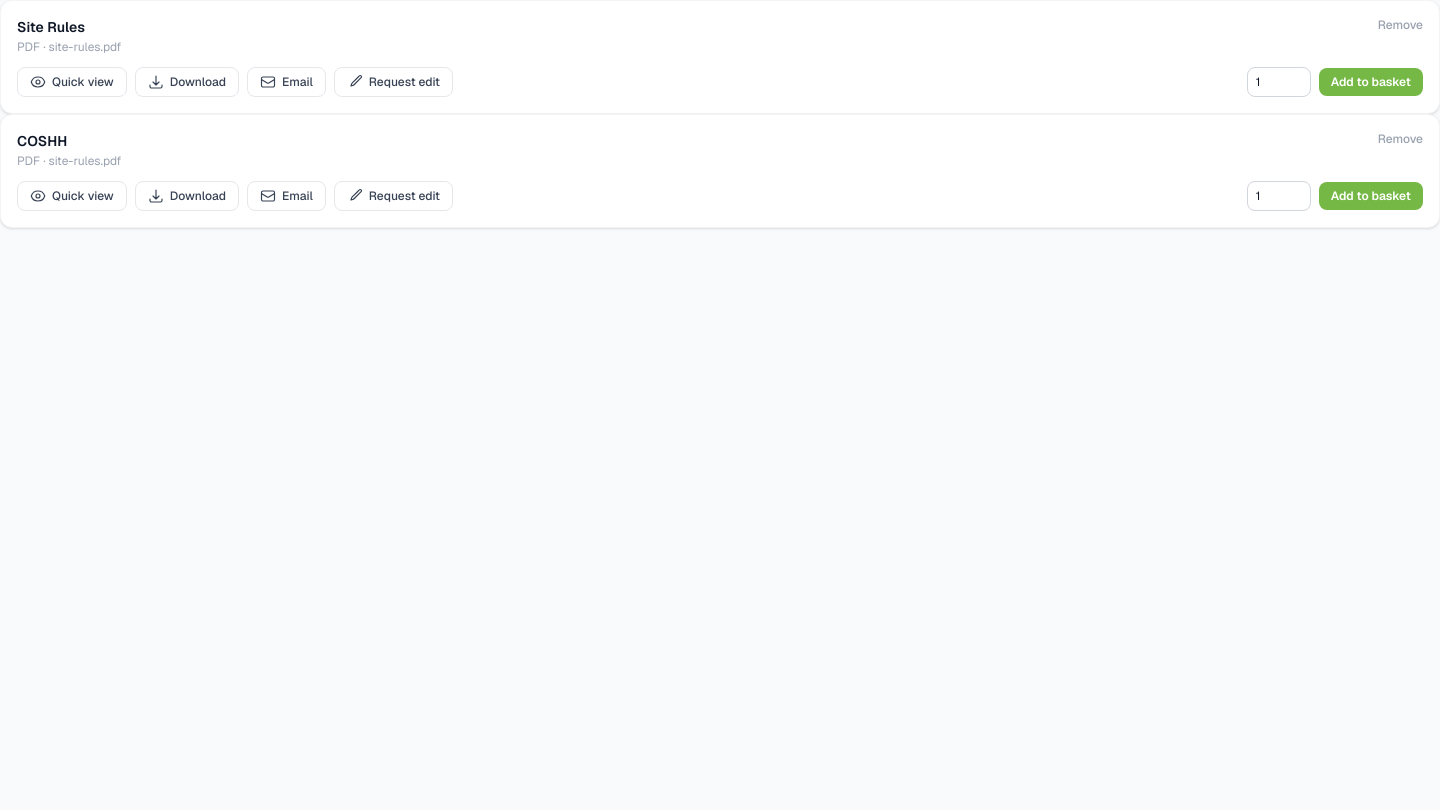
Test: confirming a print order gives unmistakable feedback › the success state names what was sent
Replace the text in the 1st number field with "3". click: (1279, 82)
box: x1=1247 y1=67 x2=1311 y2=97
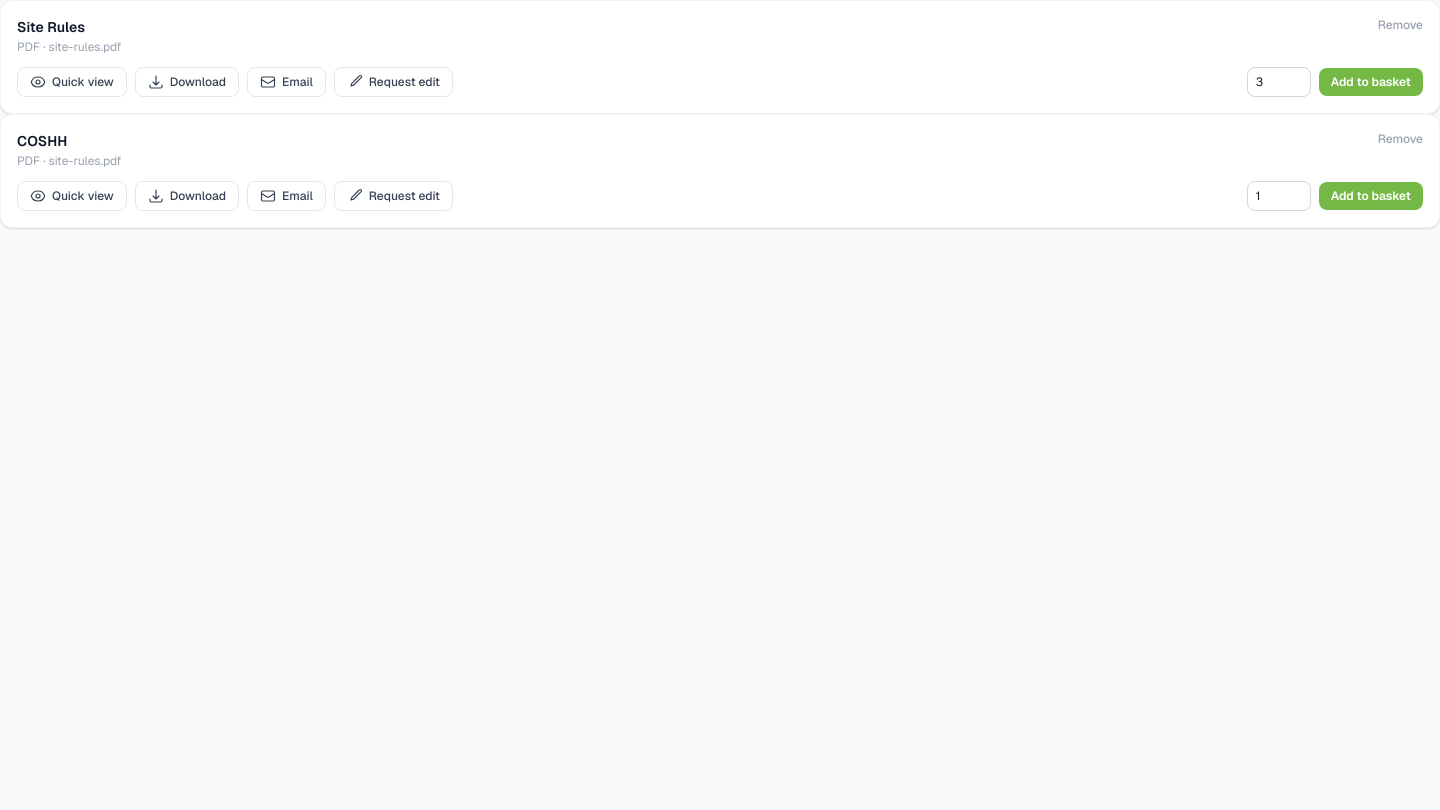
Click the 1st button "Add to basket". click: click(1371, 82)
box: x1=1319 y1=68 x2=1423 y2=96
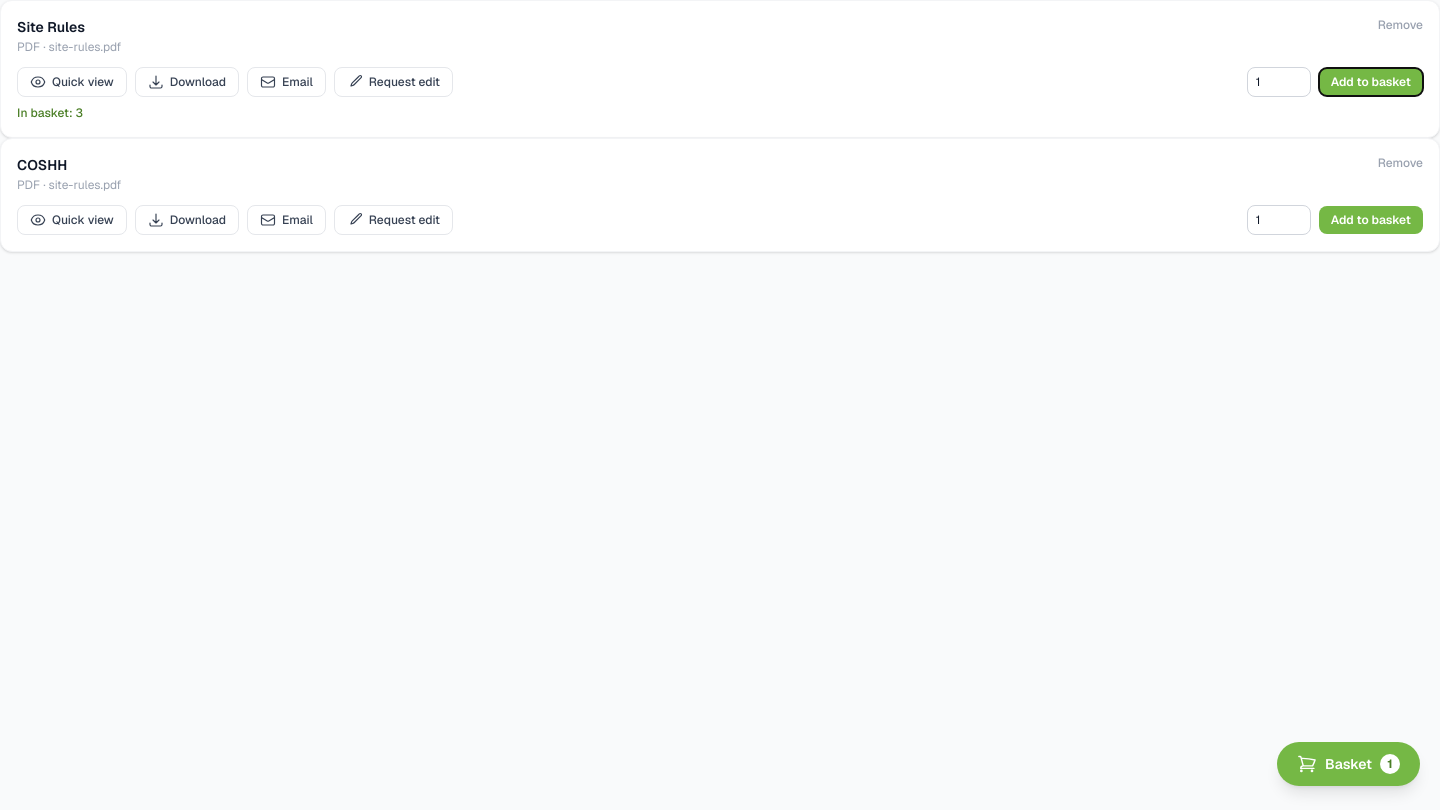
Click the 2nd button "Add to basket". click: click(1371, 220)
box: x1=1319 y1=206 x2=1423 y2=234
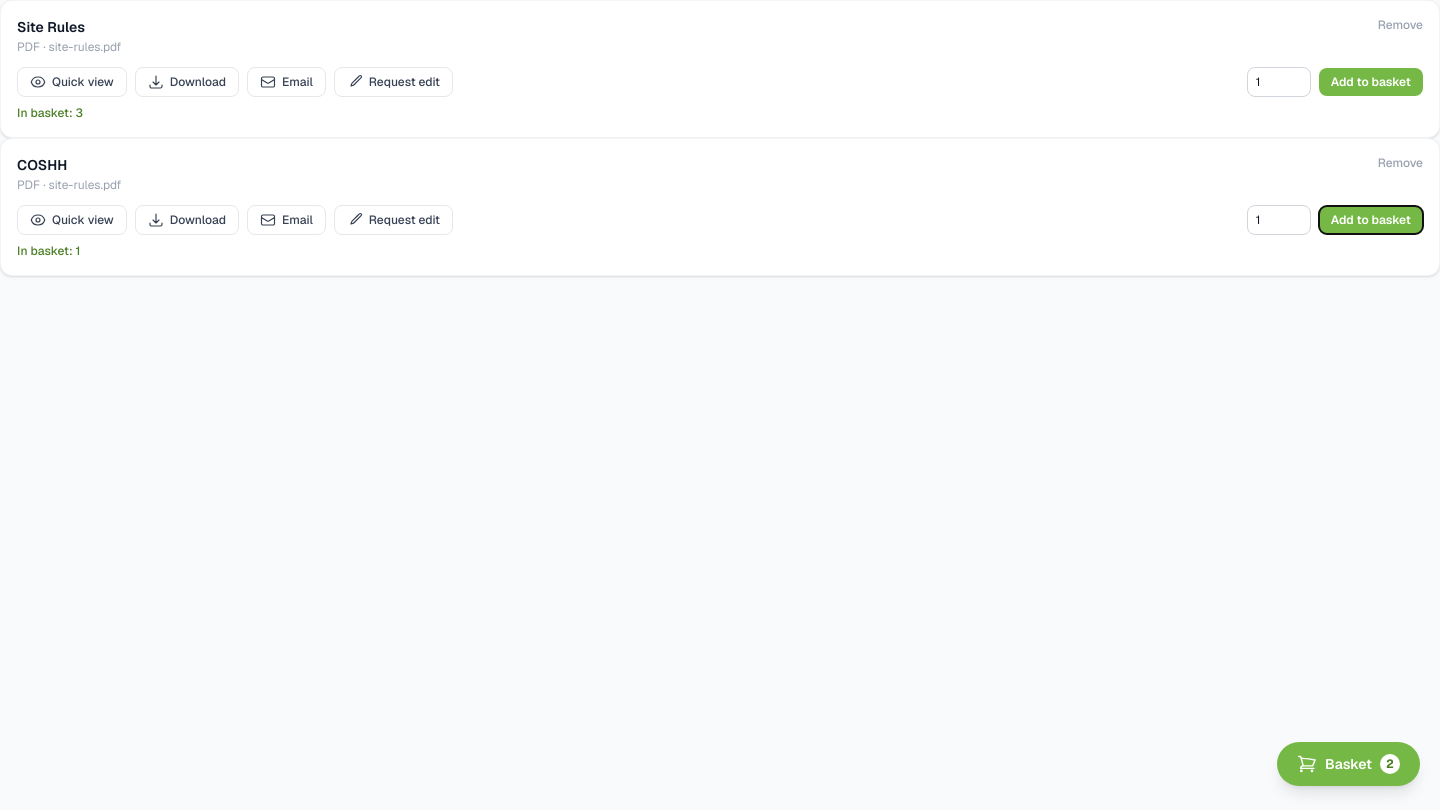
Click the button with aria-label "print basket, 2 documents". click: click(1348, 764)
box: x1=1277 y1=742 x2=1420 y2=786
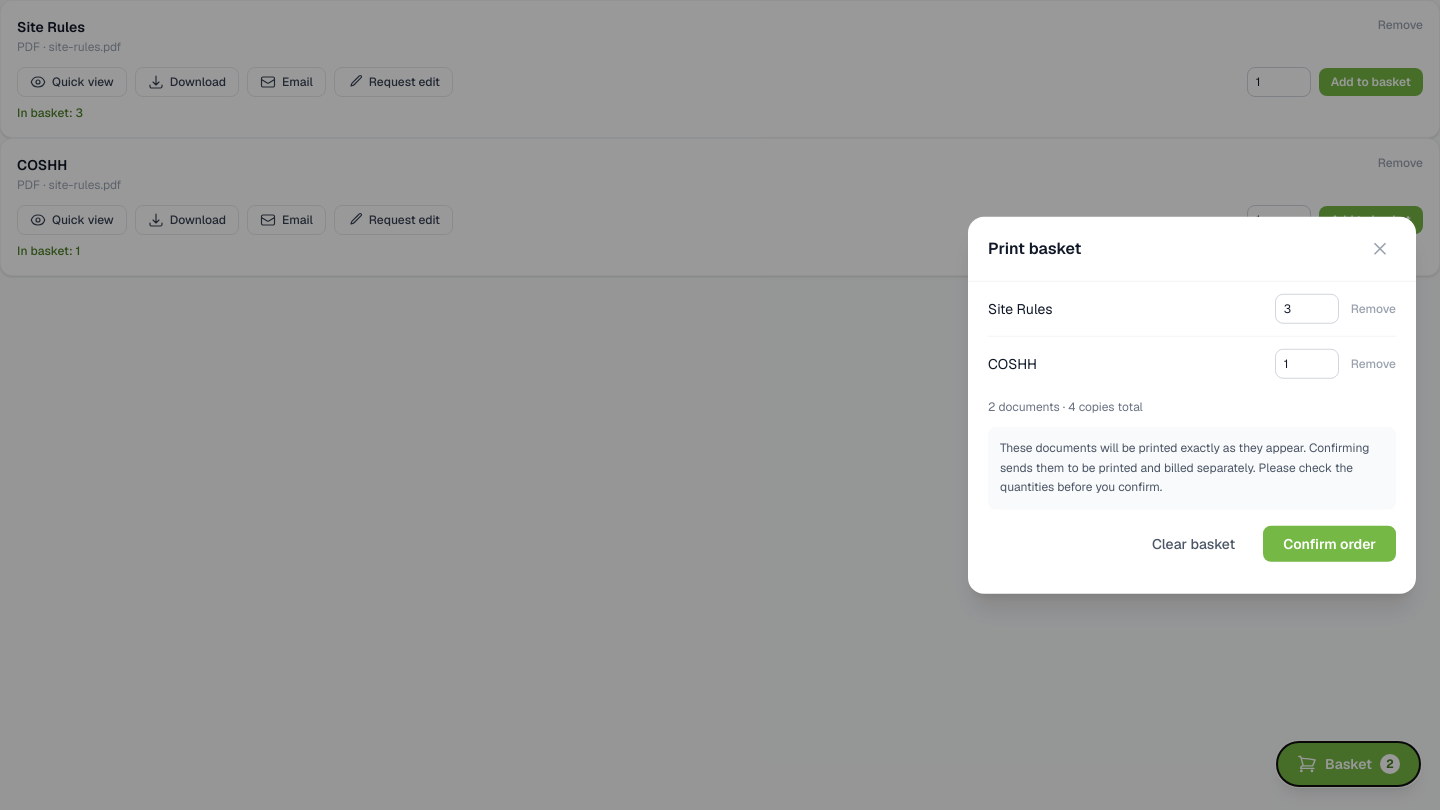
Click the button "Confirm order". click: click(1330, 543)
box: x1=1263 y1=525 x2=1396 y2=561
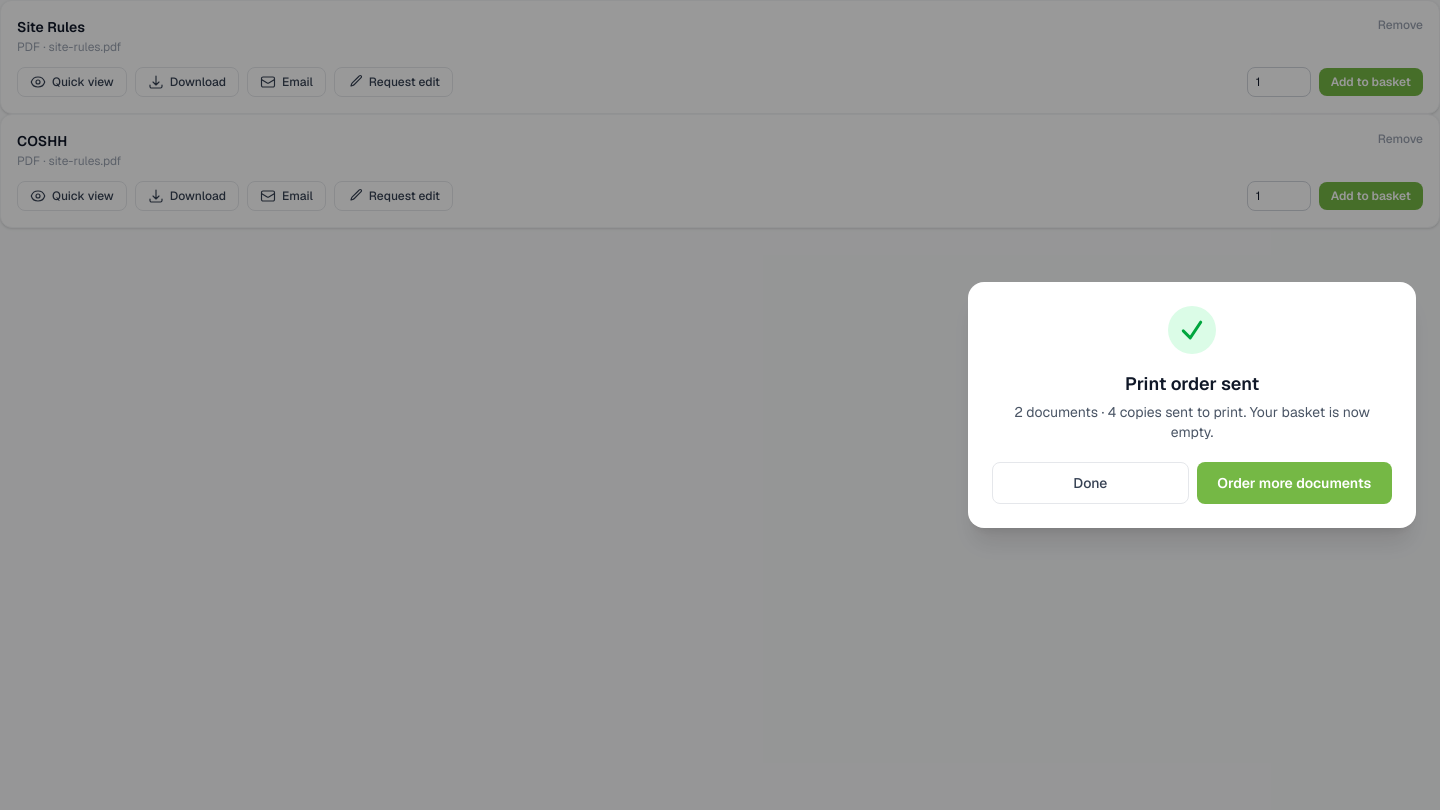
Expected: the dialog "Print order sent" shows "2 documents"
Expected: the dialog "Print order sent" shows "4 copies"
Expected: the dialog "Print order sent" shows "Your basket is now empty", x1=1162 y1=403 x2=1370 y2=441
